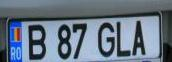7: (72, 22, 88, 60)
8: (56, 23, 72, 60)
A: (132, 20, 147, 56)
B: (28, 24, 47, 61)
G: (97, 22, 116, 58)
L: (115, 21, 131, 57)
